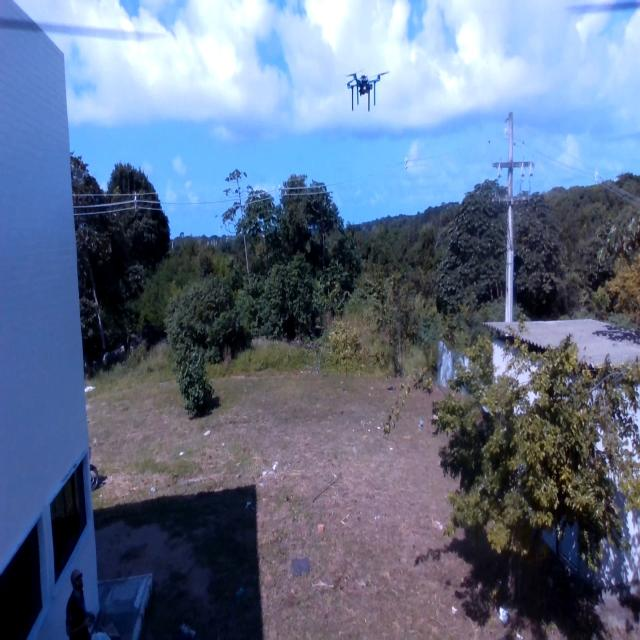-uav-: (340, 55, 389, 126)
